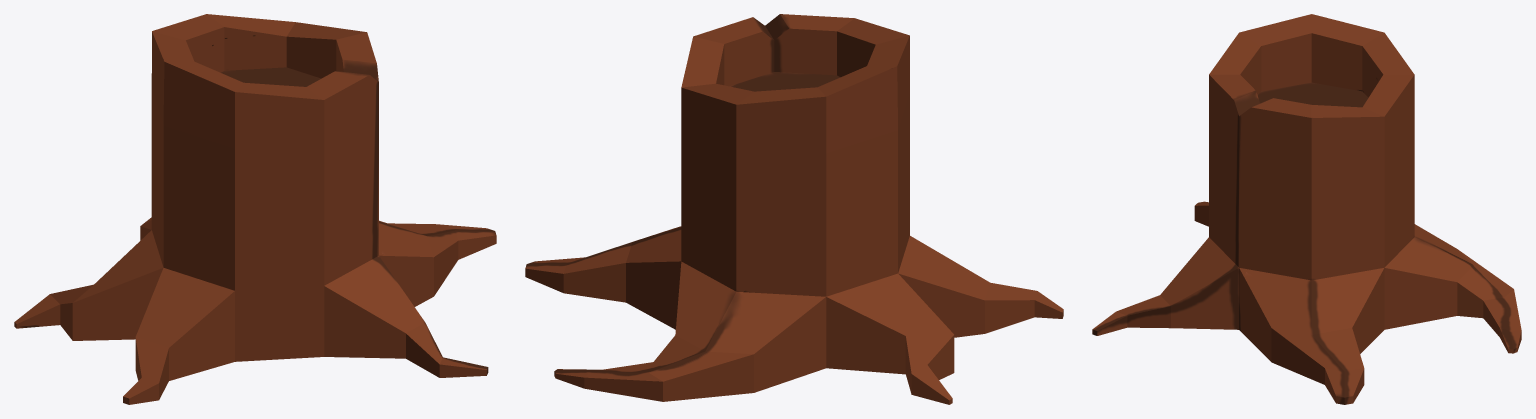
File: batang pohon.fbx
3 views of the same model, side by side, from view 1: azimuth 30°, elevation 25°; view 2: azimuth 150°, elevation 25°; view 3: azimuth 270°, elevation 25° (orthographic). The views are drawn at different scales.
Parts seen in each view (by area): view 1: Cylinder; view 2: Cylinder; view 3: Cylinder.
Boxes of the visible parts, left/top/right/bottom form: Cylinder: left=14, top=14, right=496, bottom=404; Cylinder: left=525, top=14, right=1063, bottom=404; Cylinder: left=1092, top=14, right=1521, bottom=404.
Size of the model in its own units: 444 by 262 by 418.
